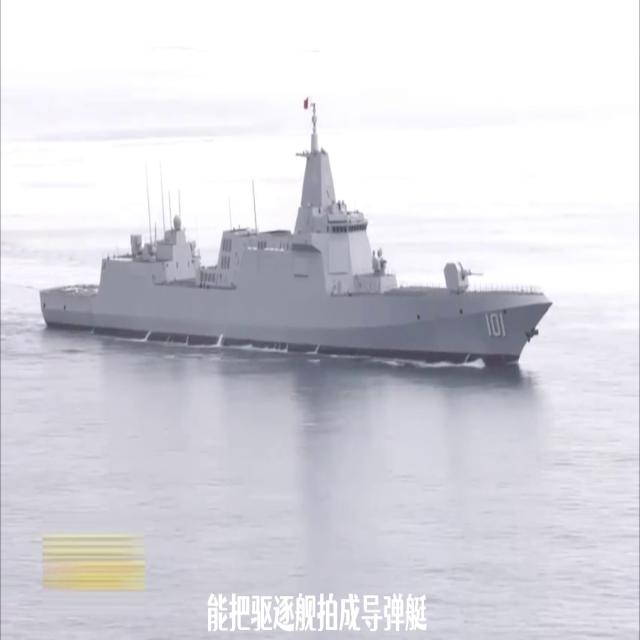navalvessels: (39, 93, 552, 366)
